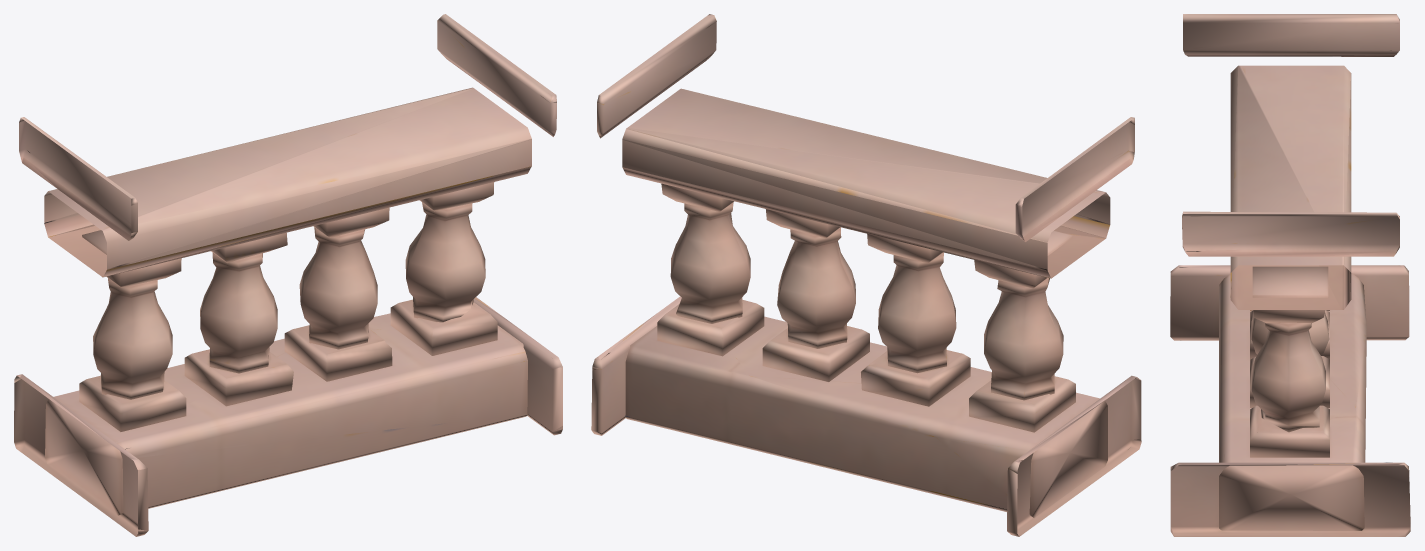
The model's file is fence_royal_bare.glb.
The picture shows the model from 3 angles, left to right: view 1: azimuth 30°, elevation 25°; view 2: azimuth 150°, elevation 25°; view 3: azimuth 270°, elevation 25°; orthographic projection. The views are drawn at different scales.
Visible parts, largest first — view 1: geometry_0; view 2: geometry_0; view 3: geometry_0.
Boxes of the visible parts, bbox=[...] form: geometry_0: bbox=[14, 14, 562, 536]; geometry_0: bbox=[591, 14, 1141, 536]; geometry_0: bbox=[1170, 14, 1410, 536].
Bounding box in the file's own units: 0.5357 × 0.4048 × 0.2725.
Materials: 1 (1 with a texture image).
